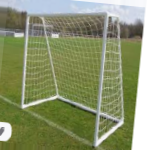goals: (19, 10, 126, 147)
